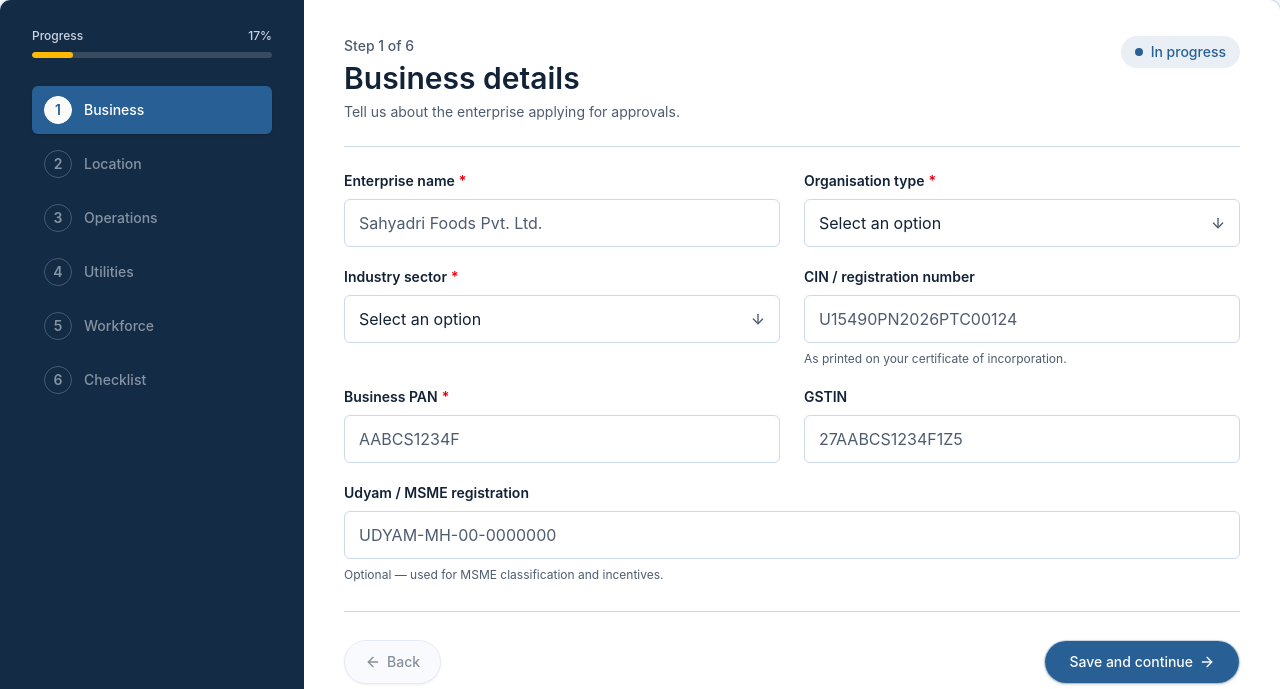
Test case: NewProjectWizard — validation › blocks continue and shows inline errors for empty required fields
Click the button "Save and continue": (1142, 662) [1044,640,1240,684]
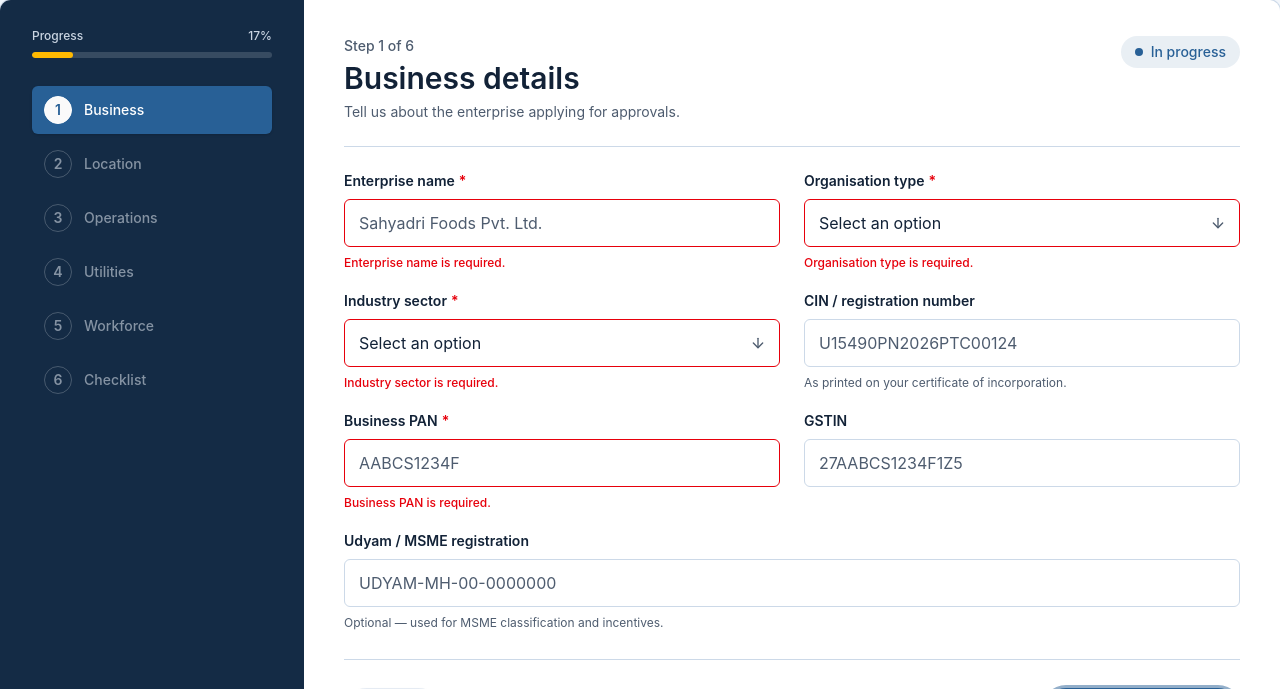
Now the text "Enterprise name is required." is shown, box [344,255,505,270]
Now the text "Industry sector is required." is shown, box [344,375,498,390]
Now the text "Business PAN is required." is shown, box [344,495,491,510]
